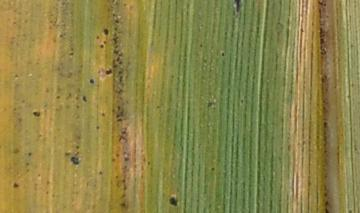tarspot: (114, 104, 126, 119), (167, 194, 179, 208), (120, 200, 133, 211), (111, 56, 124, 67), (233, 1, 243, 15), (205, 96, 214, 110), (69, 156, 81, 166), (102, 25, 112, 37), (102, 67, 114, 77), (118, 67, 124, 86), (112, 29, 118, 46), (31, 109, 41, 119), (116, 134, 127, 143), (120, 156, 132, 163), (12, 147, 21, 156), (111, 49, 121, 57), (81, 93, 88, 104), (12, 181, 21, 189), (210, 165, 218, 174), (65, 152, 73, 161), (116, 128, 128, 134), (98, 42, 105, 51), (24, 165, 31, 174), (220, 50, 227, 58), (88, 78, 96, 85), (93, 123, 100, 131), (55, 93, 62, 101), (109, 156, 116, 164), (58, 32, 65, 40), (121, 178, 128, 186), (100, 112, 107, 119), (114, 19, 121, 26), (25, 151, 33, 157), (97, 170, 105, 176), (68, 51, 74, 59), (43, 88, 51, 94), (18, 118, 24, 126), (147, 158, 153, 166), (115, 119, 124, 124), (74, 144, 80, 151), (13, 73, 19, 80), (24, 161, 30, 167)
